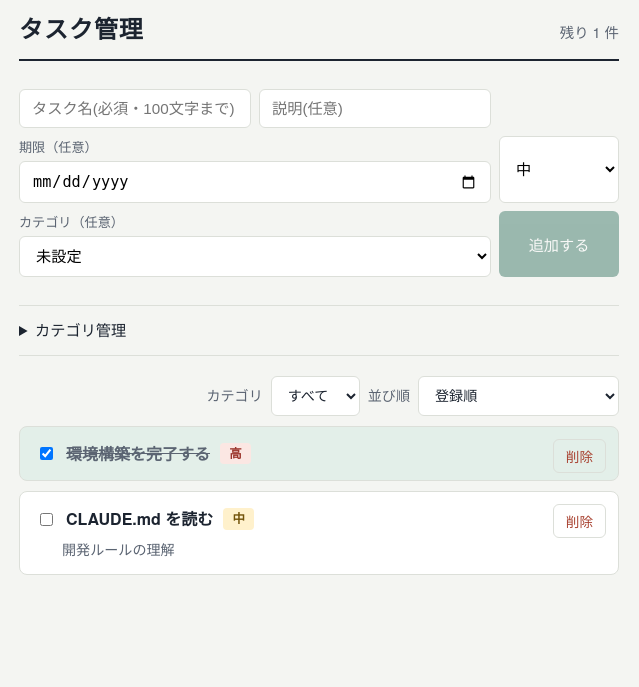
Test: App › タスクを追加するとAPIが呼ばれ一覧が更新される
Expected: the text "環境構築を完了する" is shown, [66, 441, 210, 466]
Type "新しいタスク" into the field labelled "タスク名".
click(135, 109); type("新しいタスク")  # box [19, 89, 251, 128]
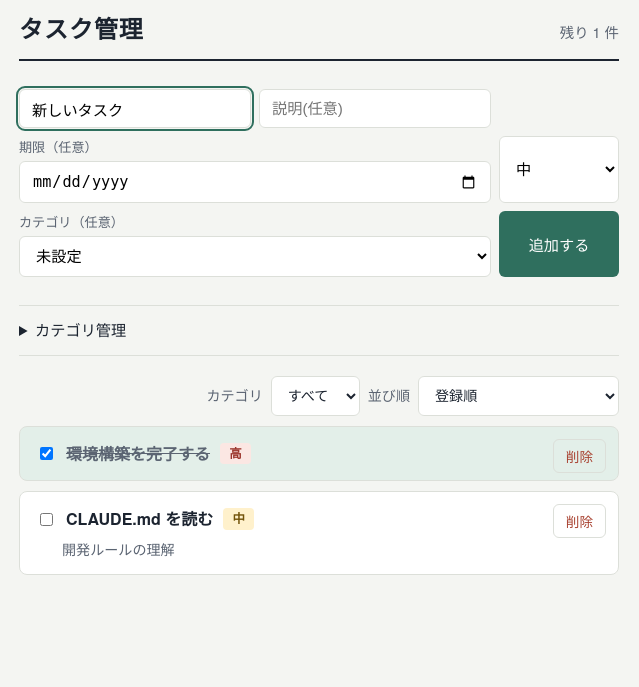
Select "低" in the dropdown named "優先度" at (559, 170), box [499, 136, 619, 203]
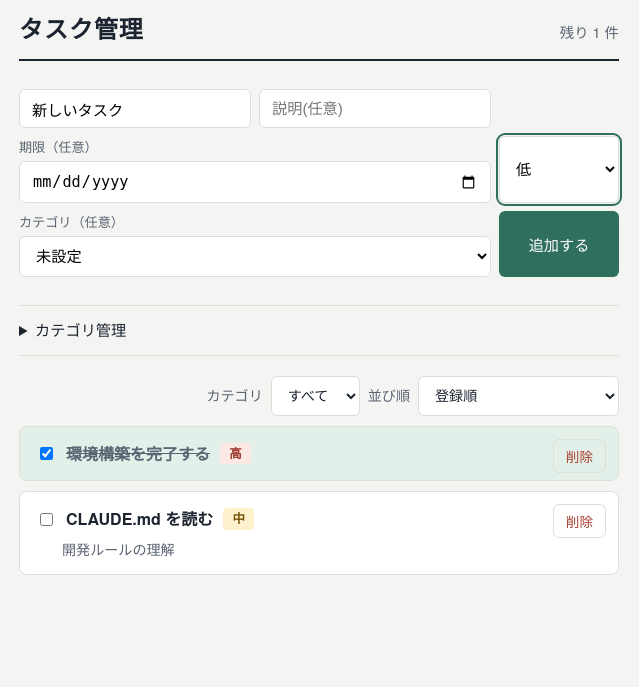
Type "2026-10-15" into the date field labelled "期限（任意）".
click(255, 182); type("2026-10-15")  # box [19, 161, 491, 203]
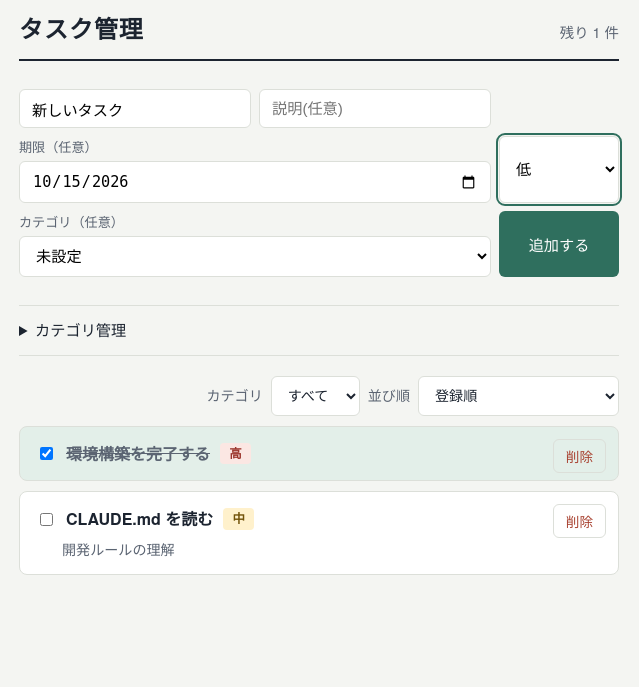
Click the button "追加する".
click(559, 244)  # box [499, 211, 619, 277]
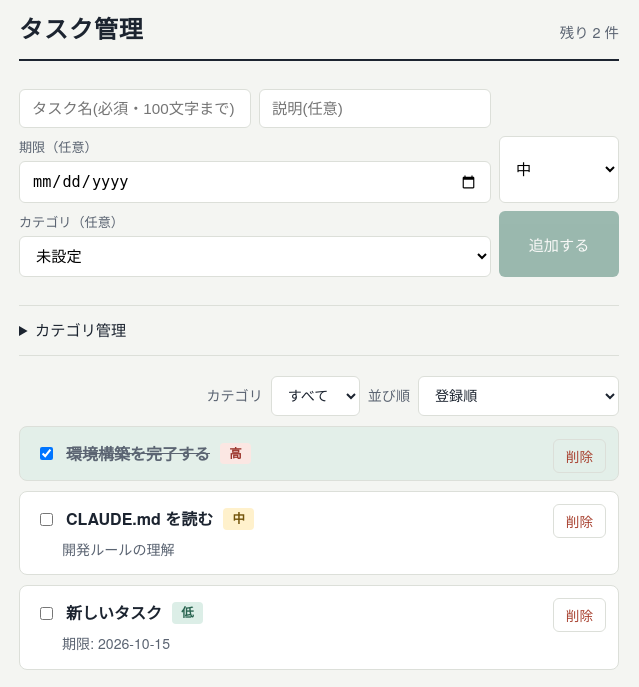
Now the text "新しいタスク" is shown, box [66, 600, 162, 626]
